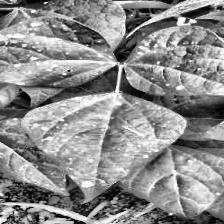Bean Rust: (26, 92, 192, 197), (0, 16, 111, 90), (124, 26, 224, 105)
